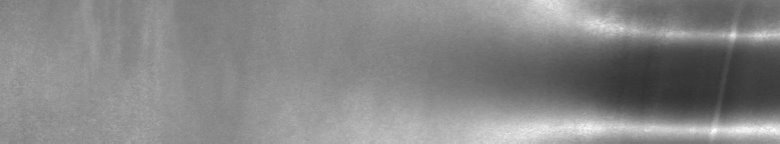ke: (535, 7, 776, 136)
